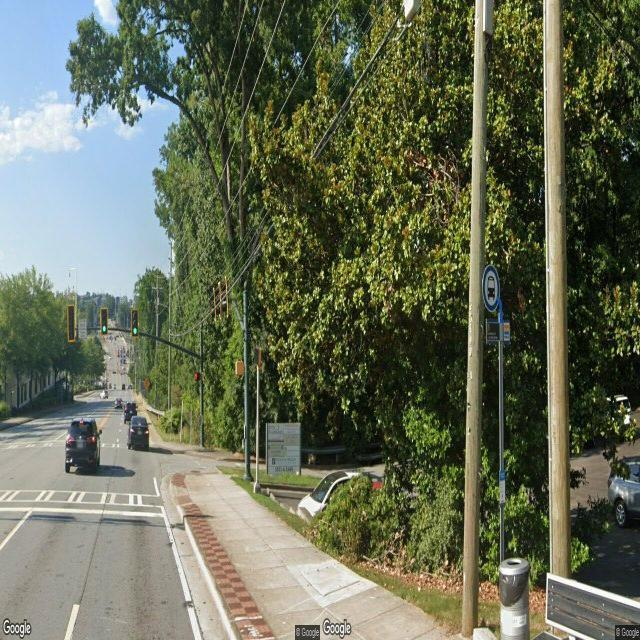seating: (531, 571, 640, 640)
trash_can: (498, 557, 530, 640)
